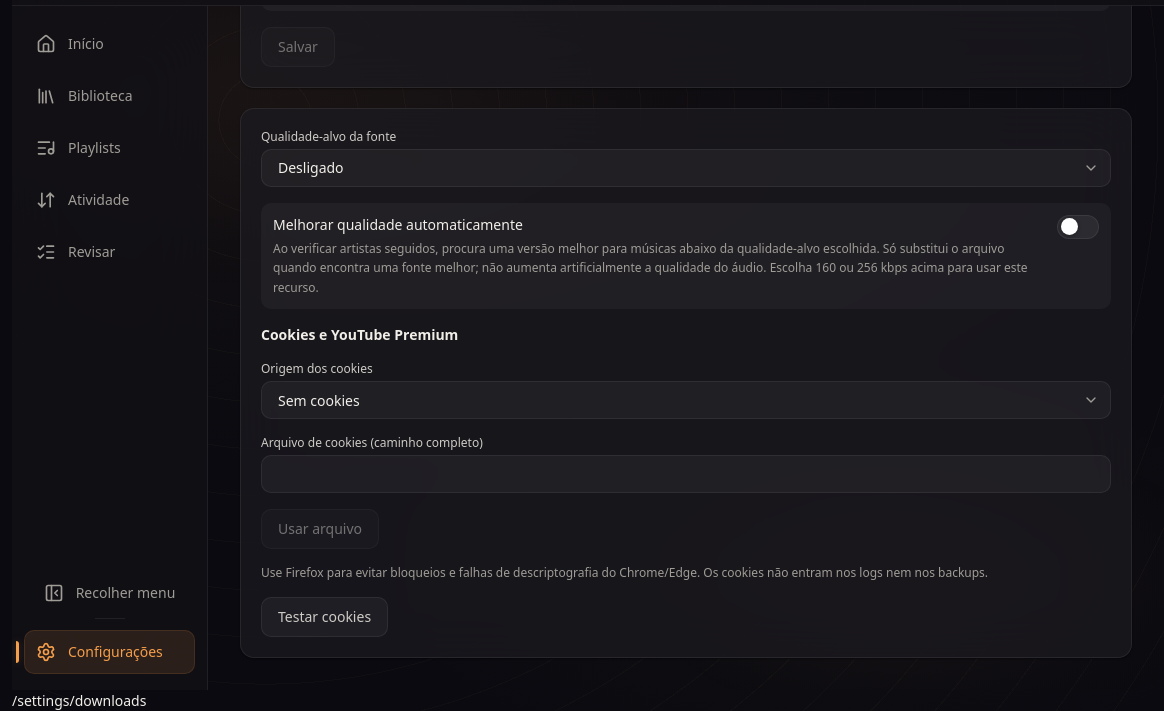
shows an actionable cookie failure
(page scrolled)
What coordinates should you click on to do the following:
click the button "Testar cookies"
I would click on:
 (325, 617)
Its box is [261, 597, 388, 637].
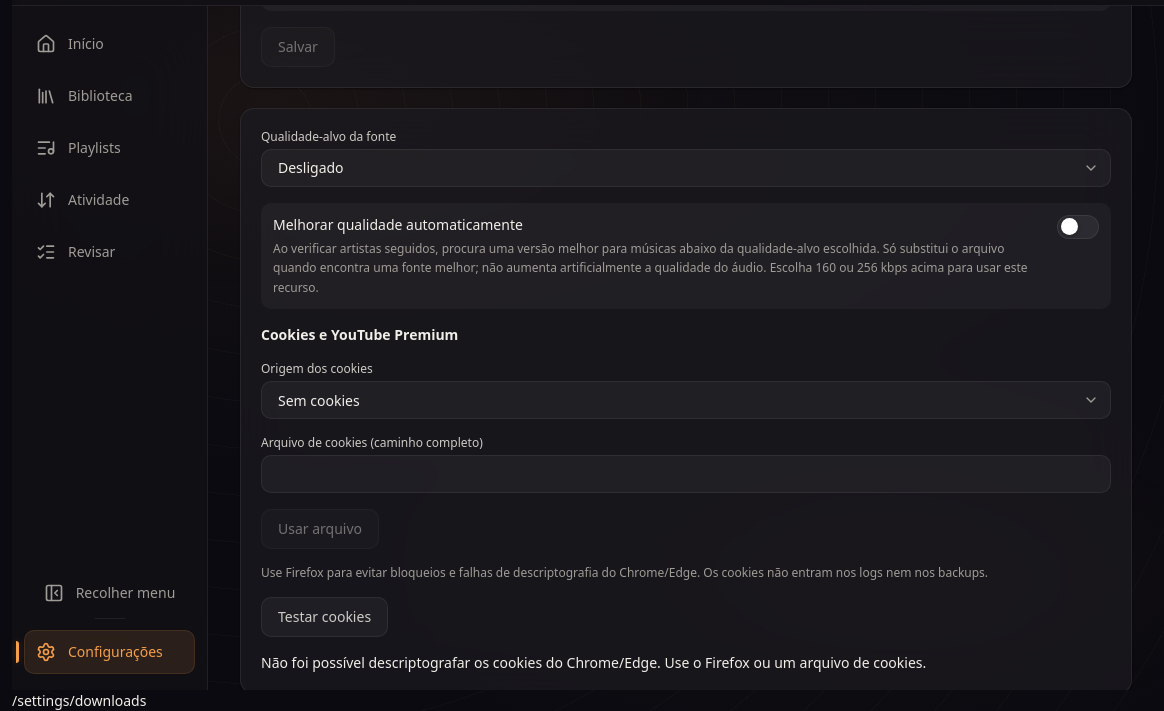
Now the message named "Testar cookies" shows "Firefox", box [261, 653, 926, 672]
